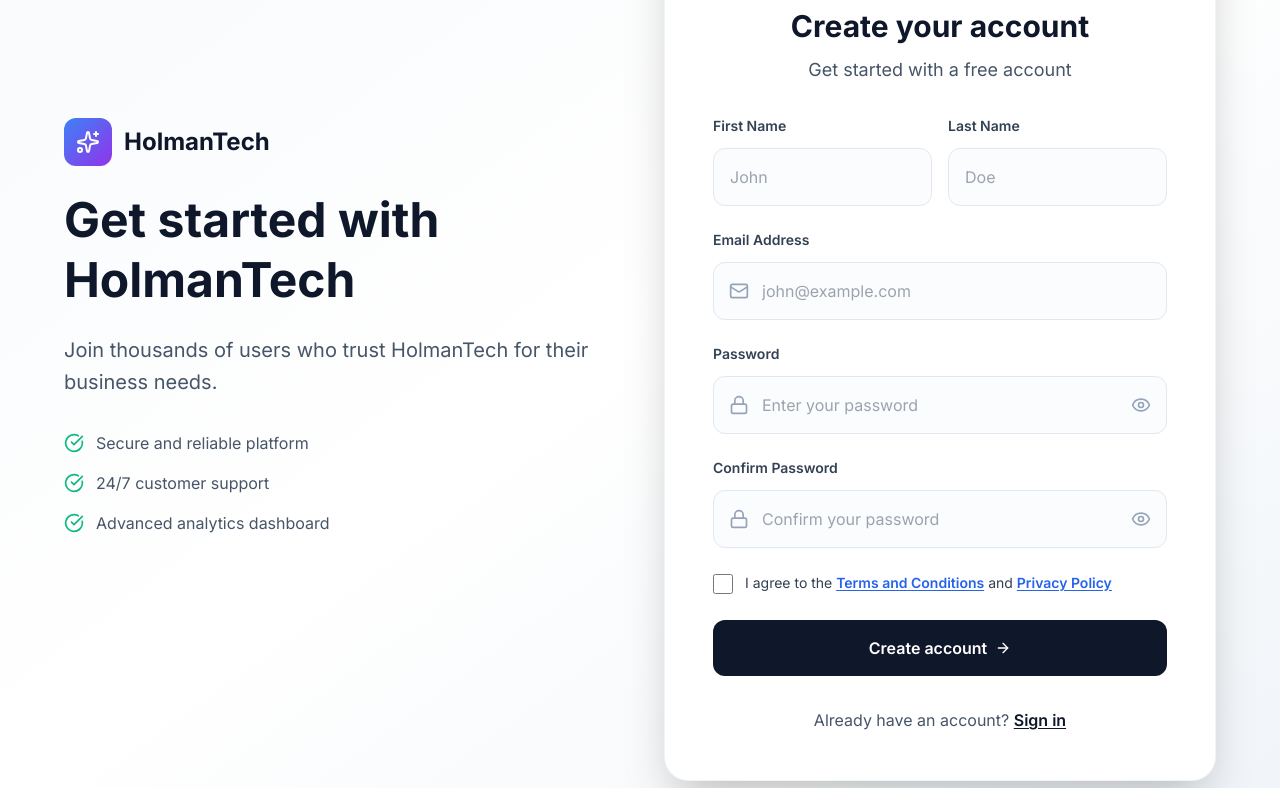
Scenario: Form Integration Tests › Registration Form Integration › should handle form validation errors
This screenshot has width=1280, height=788.
(page scrolled)
Try to submit empty form
Click the button with test id "submit-button".
click(940, 648)  # box [713,620,1167,676]
(page scrolled)
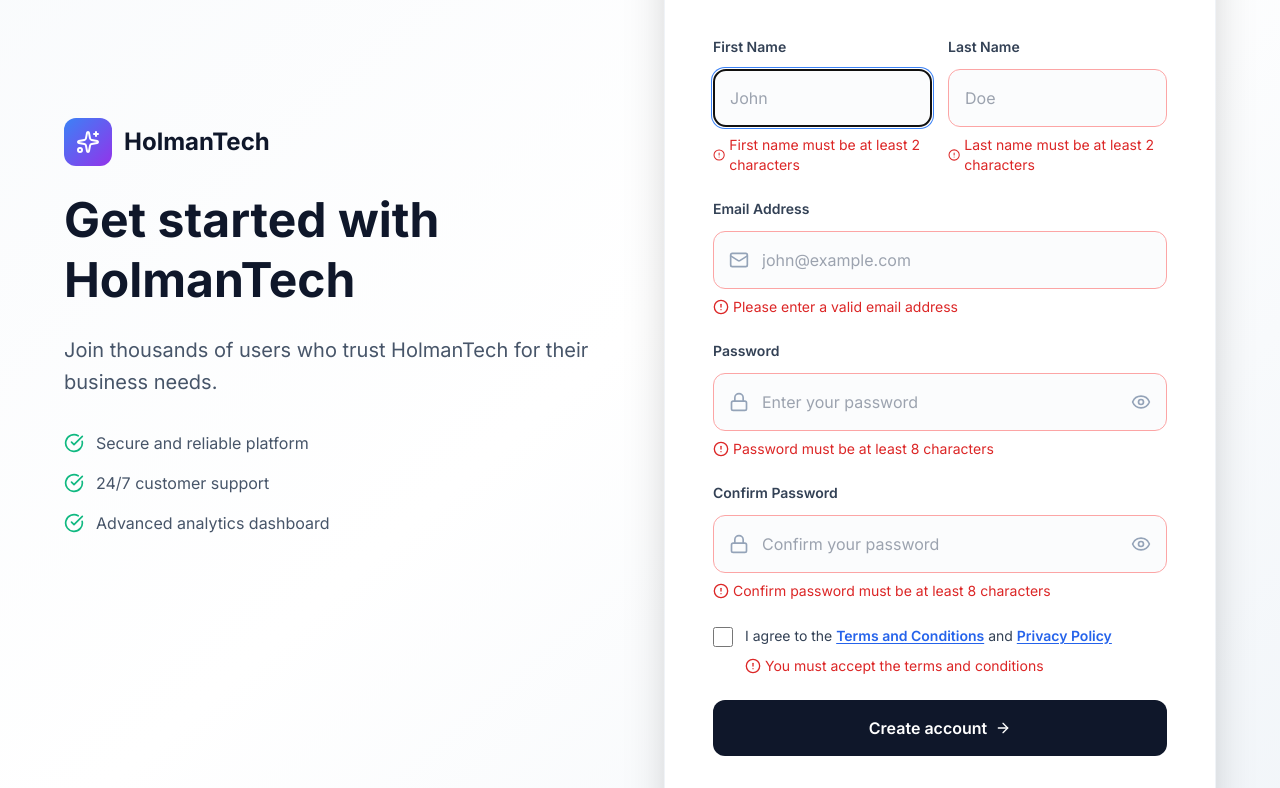
Expected: the element with test id "first-name-error" is shown, [713,135,932,175]
Expected: the element with test id "email-error" is shown, [713,298,958,315]
Expected: the element with test id "password-error" is shown, [713,440,994,457]
